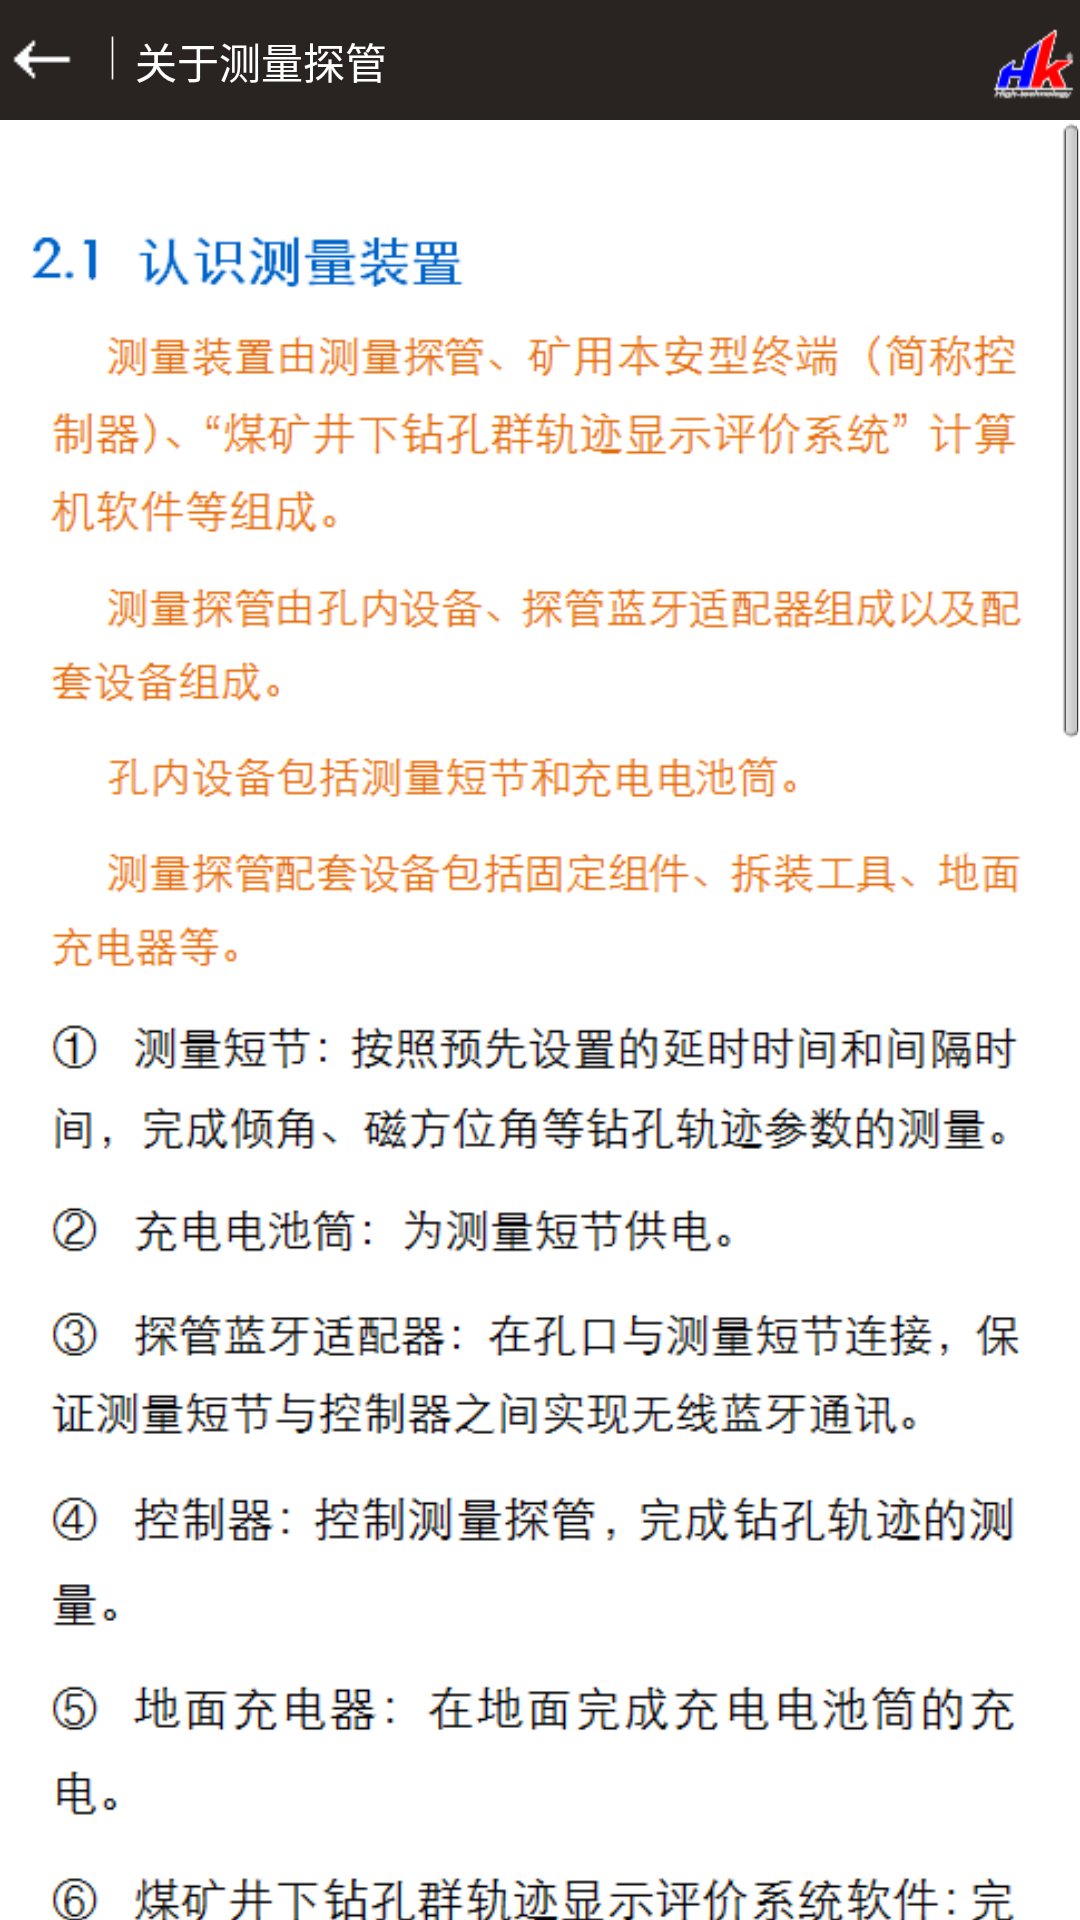

Where icons sit on this 1080 × 1920 app screen, as {"x1": x1, "y1": y1, "x2": x2, "y2": y2}:
houtui: {"x1": 13, "y1": 40, "x2": 71, "y2": 79}
